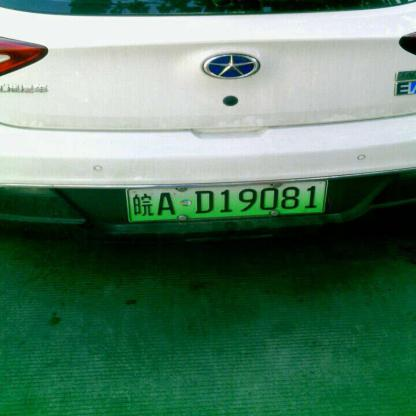lp: (128, 181, 325, 220)
